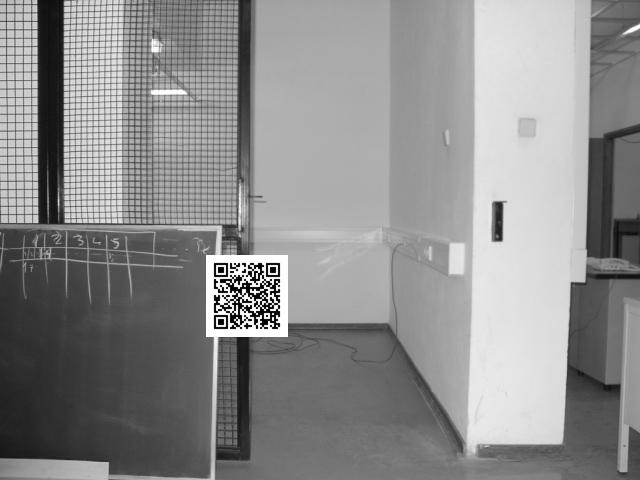qr_code: (205, 254, 289, 336)
